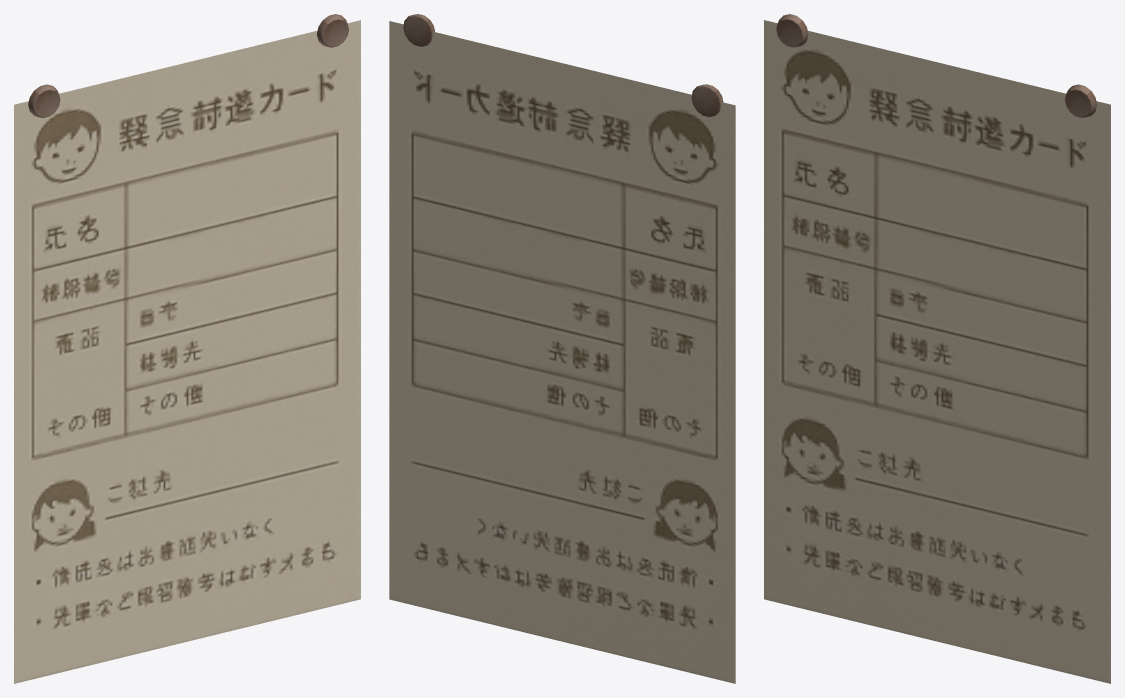
File: SM_notice_008.fbx
The picture shows the model from 3 angles, left to right: view 1: azimuth 30°, elevation 25°; view 2: azimuth 150°, elevation 25°; view 3: azimuth 330°, elevation 25°; orthographic projection.
Visible parts, largest first — view 1: notices10; view 2: notices10; view 3: notices10.
Boxes of the visible parts, x1,y1,x2,y2 form: notices10: (14, 14, 360, 683); notices10: (389, 14, 735, 683); notices10: (764, 14, 1110, 683).
Size of the model in its own units: 11.61 by 18.93 by 0.2655.
1 material, 1 textured.
